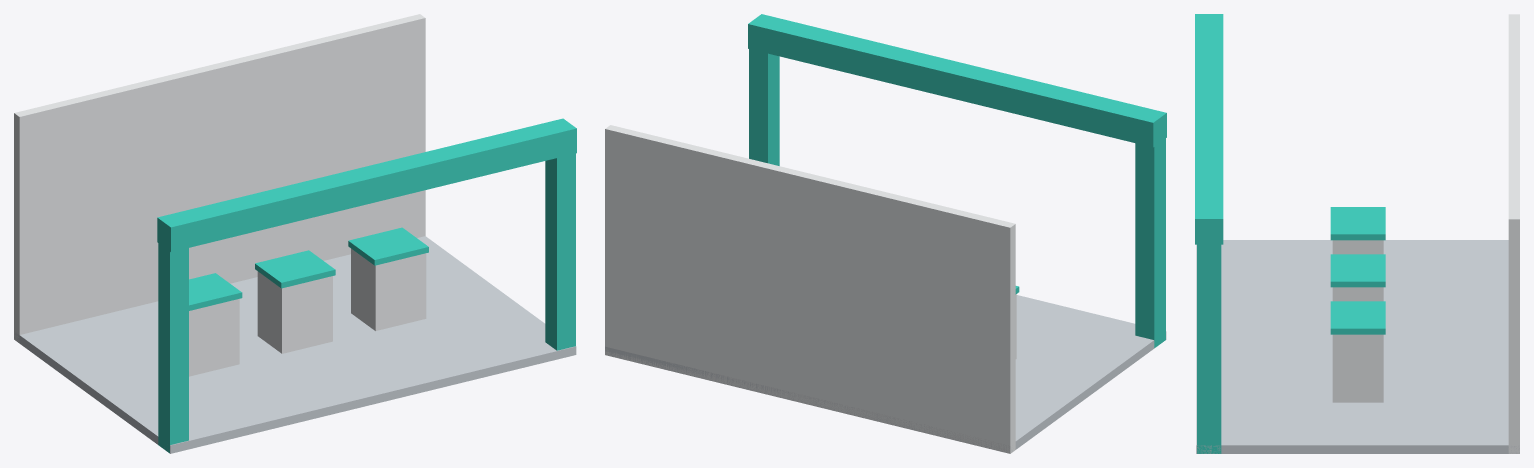
The picture shows the model from 3 angles, left to right: view 1: azimuth 30°, elevation 25°; view 2: azimuth 150°, elevation 25°; view 3: azimuth 270°, elevation 25°; orthographic projection. The views are drawn at different scales.
Parts seen in each view (by area): view 1: Exhibition Booth Concept; view 2: Exhibition Booth Concept; view 3: Exhibition Booth Concept.
Boxes of the visible parts, left/top/right/bottom form: Exhibition Booth Concept: left=14, top=14, right=576, bottom=453; Exhibition Booth Concept: left=605, top=14, right=1166, bottom=453; Exhibition Booth Concept: left=1195, top=14, right=1519, bottom=453.
Bounding box in the file's own units: 6 × 3.2 × 4.02.
